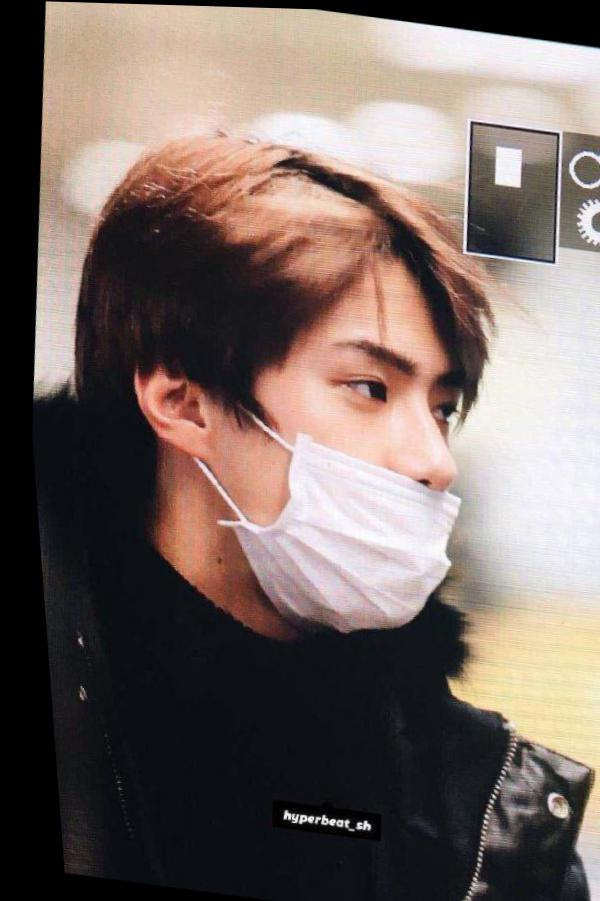WRONG: (200, 280, 487, 644)
